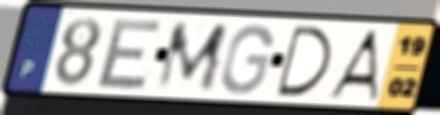8: (51, 13, 105, 89)
A: (324, 28, 382, 103)
D: (274, 23, 334, 99)
E: (94, 18, 166, 91)
G: (218, 22, 276, 96)
M: (153, 21, 231, 93)
